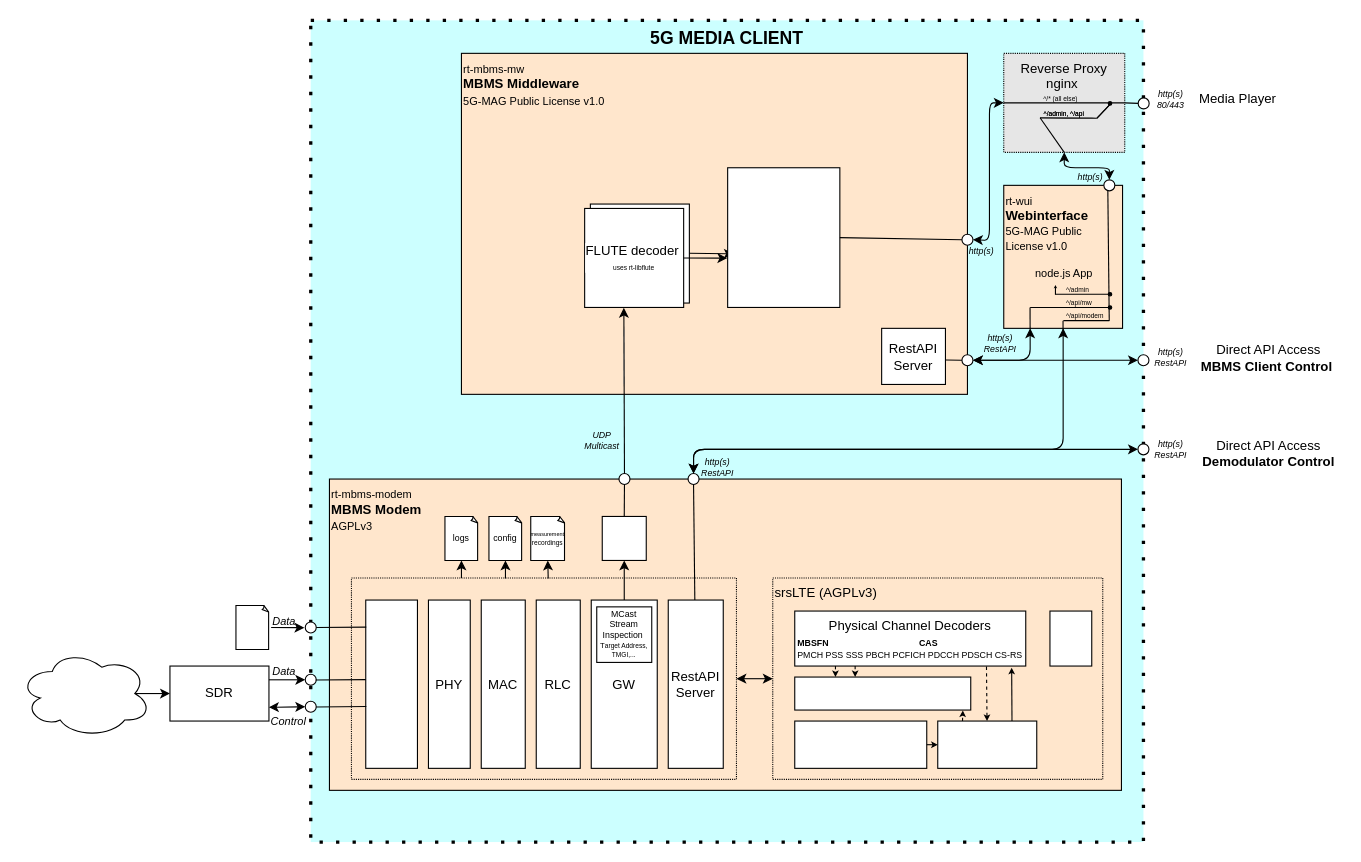
The diagram is 1361 pixels wide and 862 high, and some of its shapes have lost their labels. Each missing label, with the centre of its shape:
"5G Broadcast" belongs at (x=84, y=693).
"Cache Management (Segments and Playlists)" belongs at (x=783, y=237).
"Channel Estimation" belongs at (x=987, y=744).
"Network tun interface" belongs at (x=623, y=537).
"OFDM Demodulation" belongs at (x=860, y=744).
"RRC" belongs at (x=1070, y=638).
"Sample File" belongs at (x=252, y=627).
"Soapy Reader" belongs at (x=391, y=683).
"Synchronisation" belongs at (x=882, y=693).
